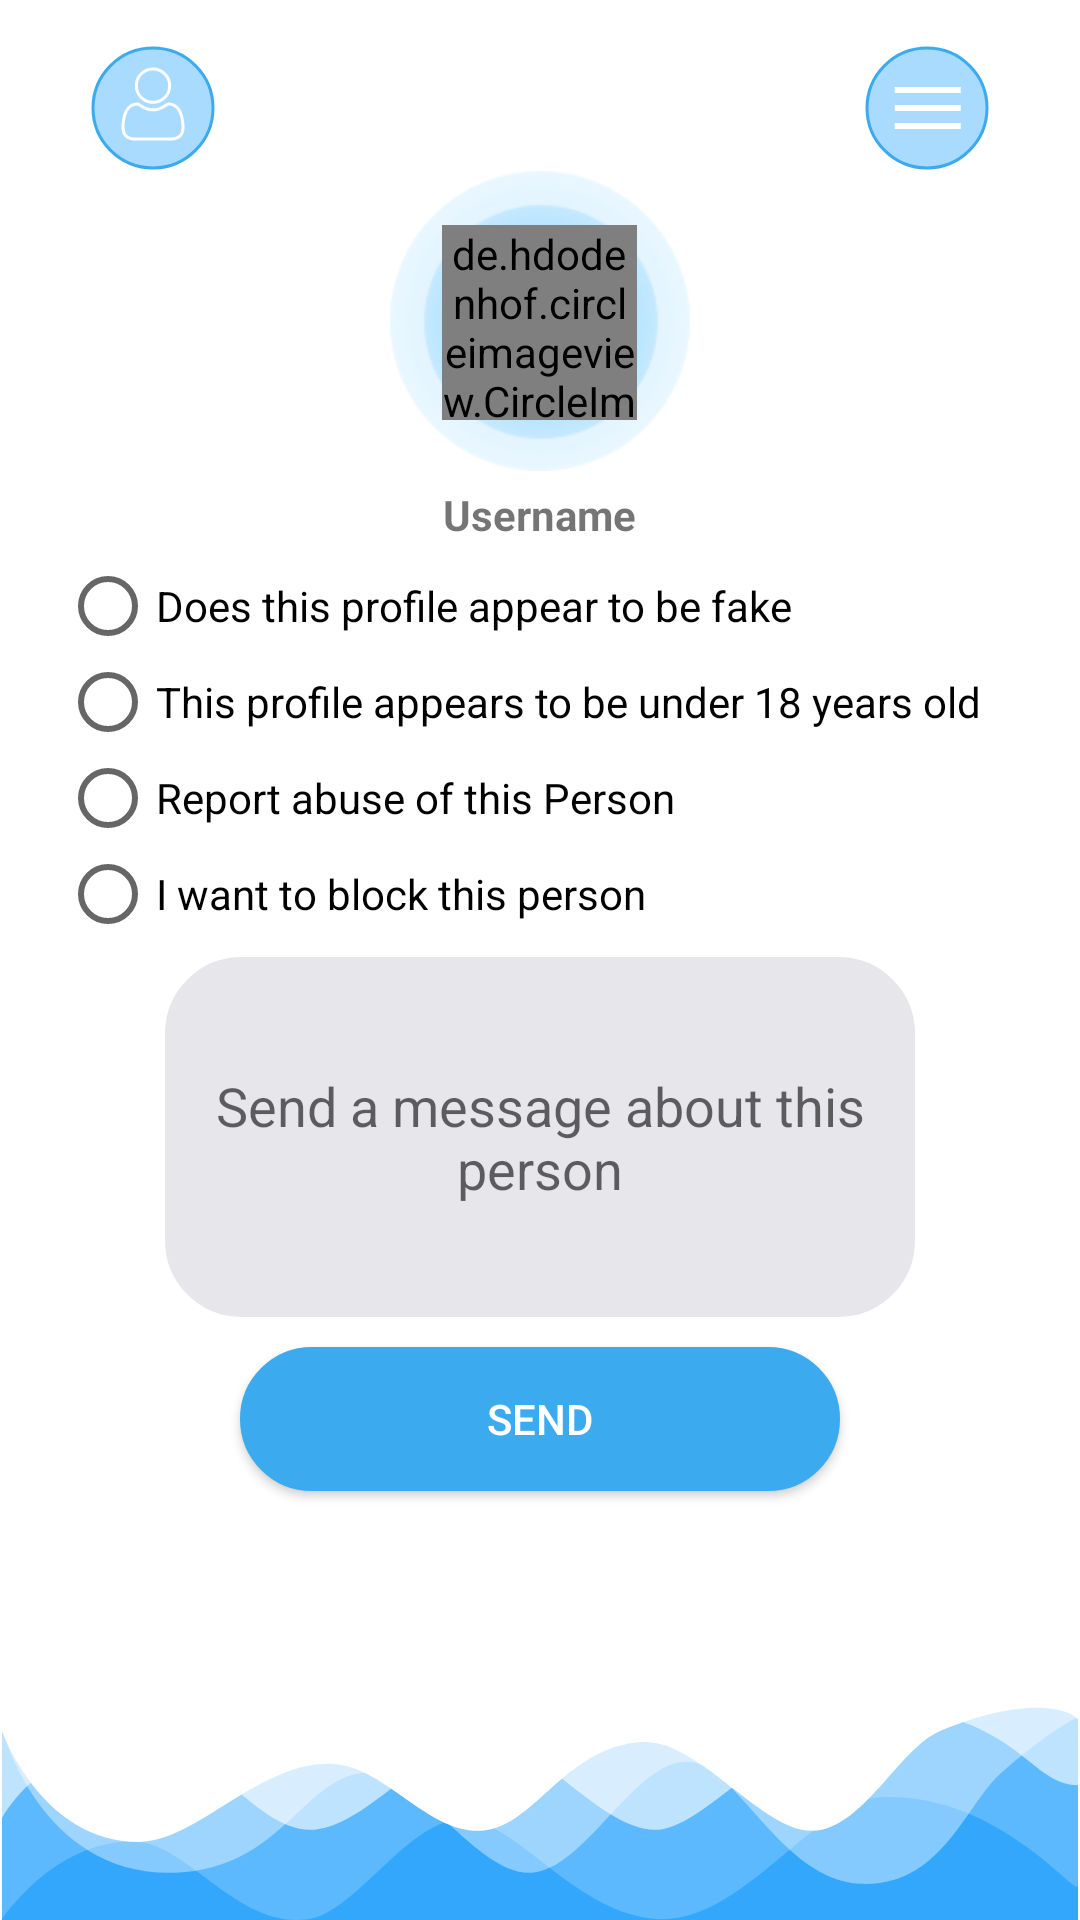

Screen size 1080px x 1920px. Icon name, then its box in pixels as detection(x1, y1, x2, y2):
gotoprofile: detection(91, 46, 215, 170)
